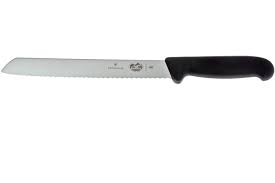knife: (1, 55, 275, 85)
